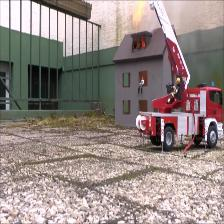fire: (126, 2, 146, 28)
